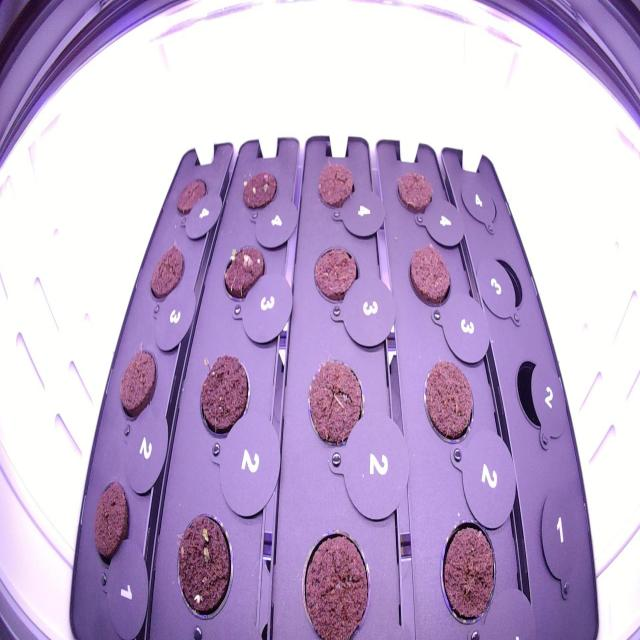empty_pod: (534, 481, 584, 602), (511, 353, 562, 444), (483, 253, 526, 323), (459, 171, 500, 232)
germination: (170, 505, 238, 626), (192, 350, 255, 442), (218, 239, 266, 310), (234, 167, 280, 218)
pod: (295, 516, 376, 638), (436, 513, 502, 634), (301, 349, 368, 448), (421, 354, 479, 451), (90, 477, 133, 569), (116, 343, 159, 431), (403, 240, 455, 312), (312, 242, 366, 309), (146, 235, 188, 313), (313, 158, 360, 218), (393, 164, 439, 223), (173, 173, 209, 230)
